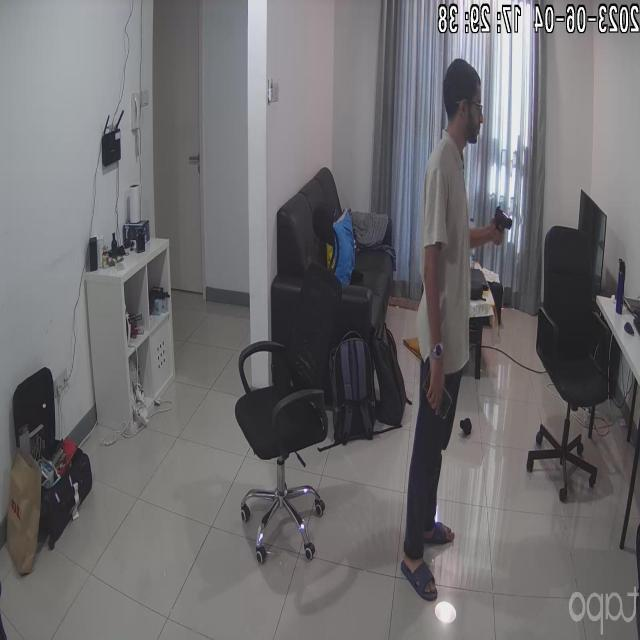Gun: (489, 188, 527, 252)
